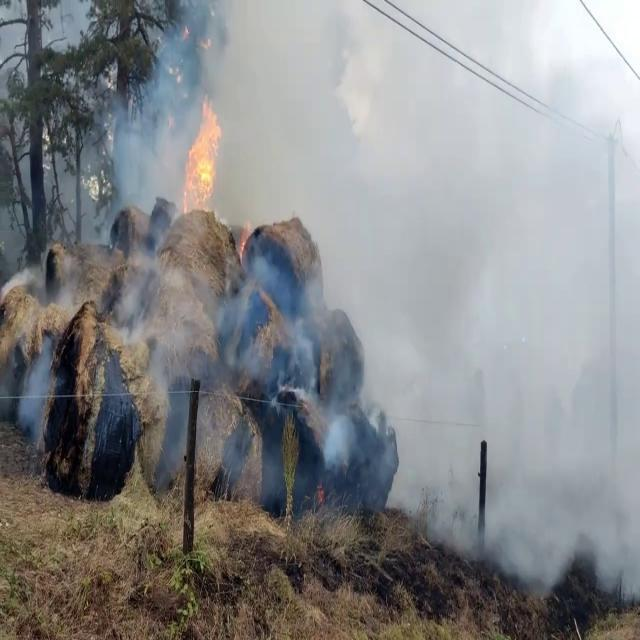Fire: (183, 85, 224, 214)
Smoke: (386, 3, 640, 596), (90, 6, 394, 496)
